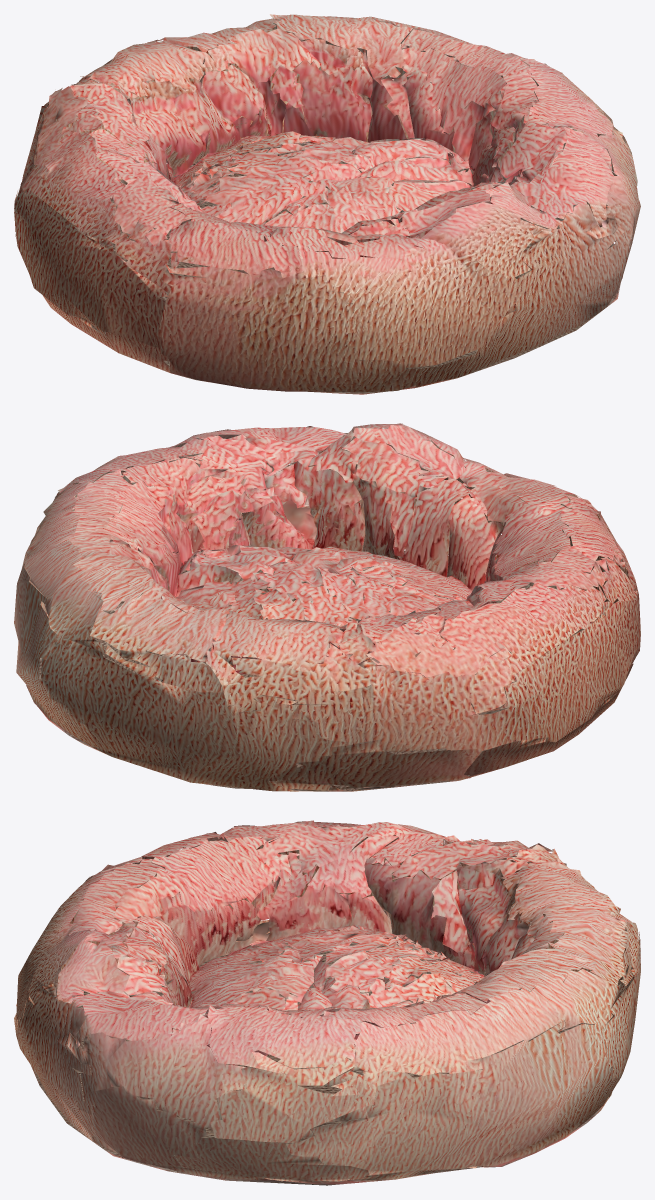
Rendered from P_PetBedPink_h19.fbx.
3 views of the same model, one above another, from view 1: azimuth 30°, elevation 25°; view 2: azimuth 150°, elevation 25°; view 3: azimuth 270°, elevation 25° (orthographic). The views are drawn at different scales.
Visible parts, largest first — view 1: surface_8; view 2: surface_8; view 3: surface_8.
Boxes of the visible parts, <box> form: surface_8: <box>14,14,640,394</box>; surface_8: <box>14,423,640,791</box>; surface_8: <box>14,820,640,1185</box>.
Bounding box in the file's own units: 3.66 × 1 × 3.71.
Materials: 1 (1 with a texture image).
